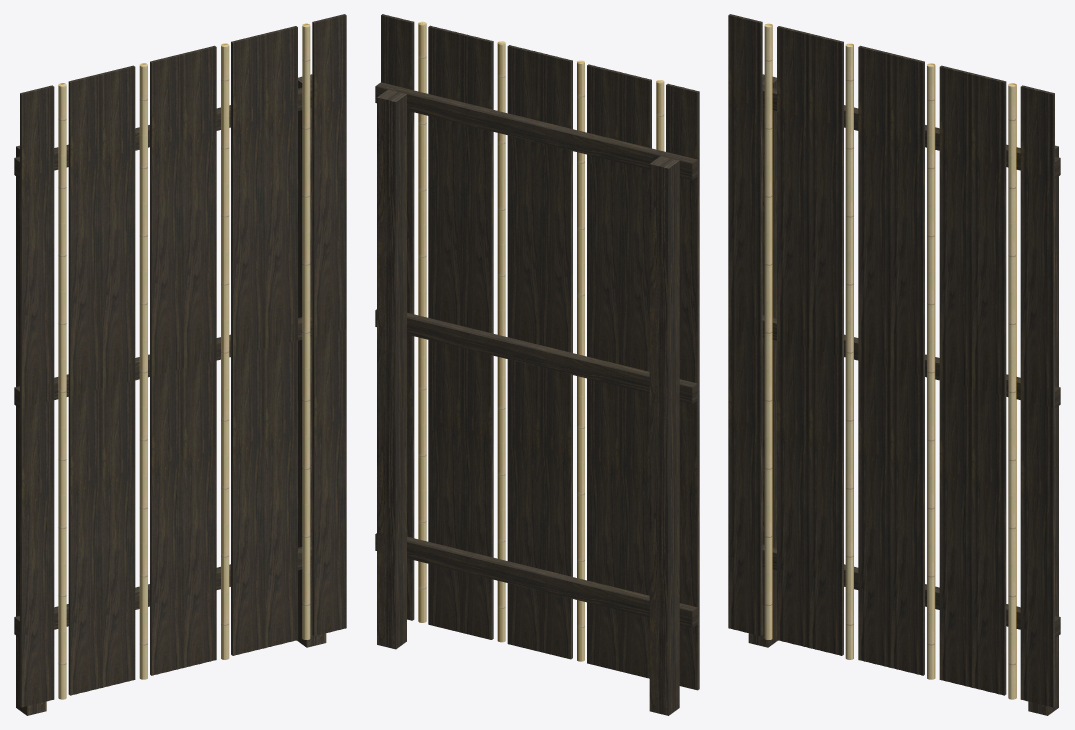
Rendered from kodawari-yamato_h1800_blackeboy.fbx.
The picture shows the model from 3 angles, left to right: view 1: azimuth 30°, elevation 25°; view 2: azimuth 150°, elevation 25°; view 3: azimuth 330°, elevation 25°; orthographic projection. The views are drawn at different scales.
Parts seen in each view (by area): view 1: kodawari-yamato_h1800_blackeboy; view 2: kodawari-yamato_h1800_blackeboy; view 3: kodawari-yamato_h1800_blackeboy.
Part boxes in pixels (x1,y1,x2,y2): kodawari-yamato_h1800_blackeboy: (14,14,346,715); kodawari-yamato_h1800_blackeboy: (375,14,699,715); kodawari-yamato_h1800_blackeboy: (728,14,1060,715).
Size of the model in its own units: 100 by 185 by 11.2.
Materials: 3 (3 with a texture image).
